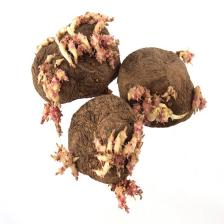Sprouted potato: (55, 88, 145, 208), (110, 32, 202, 130), (28, 15, 119, 103)
